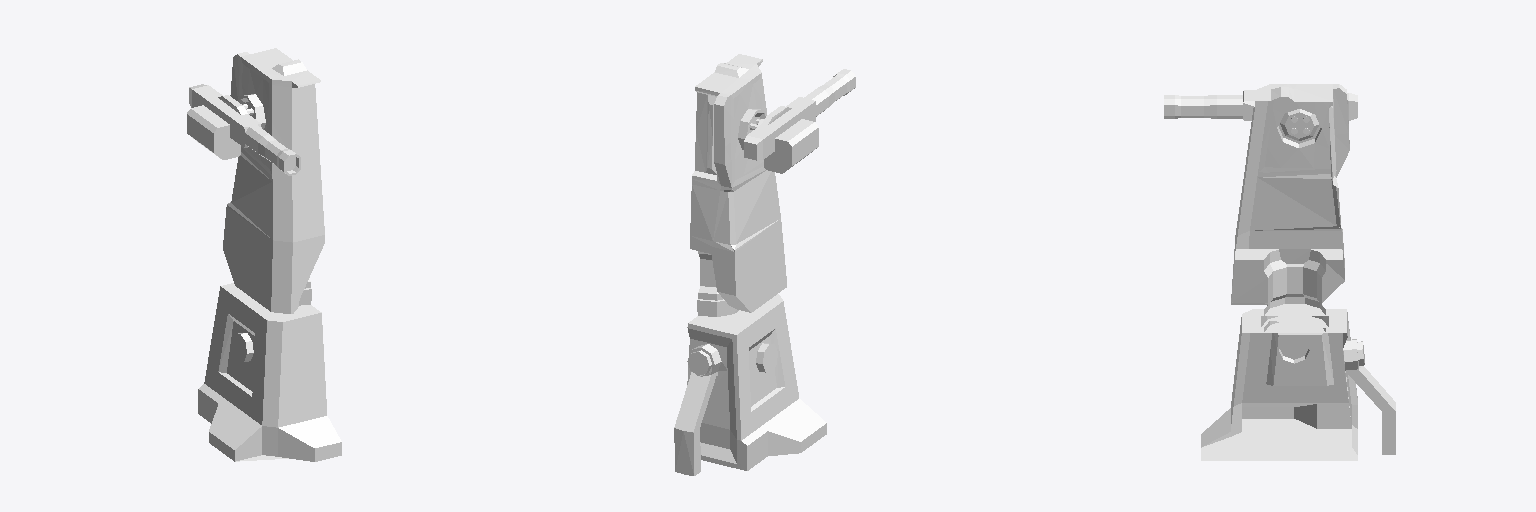
3 renders of one model, left to right at view 1: azimuth 30°, elevation 25°; view 2: azimuth 150°, elevation 25°; view 3: azimuth 270°, elevation 25°, orthographic.
Visible parts, largest first — view 1: body1, body2, Turet; view 2: body2, body1, Turet, Object001; view 3: body2, body1, Object001, Turet.
Part boxes in pixels (x1,y1,x2,y2): body1: (223,48,324,313); body2: (198,283,341,461); Turet: (187,84,300,175); body2: (674,294,826,475); body1: (690,54,786,312); Turet: (744,69,855,173); Object001: (697,251,738,316); body2: (1201,309,1395,460); body1: (1231,84,1349,304); Object001: (1261,250,1328,331); Turet: (1164,93,1357,134).
Size of the model in its own units: 36.42 by 136 by 78.62.